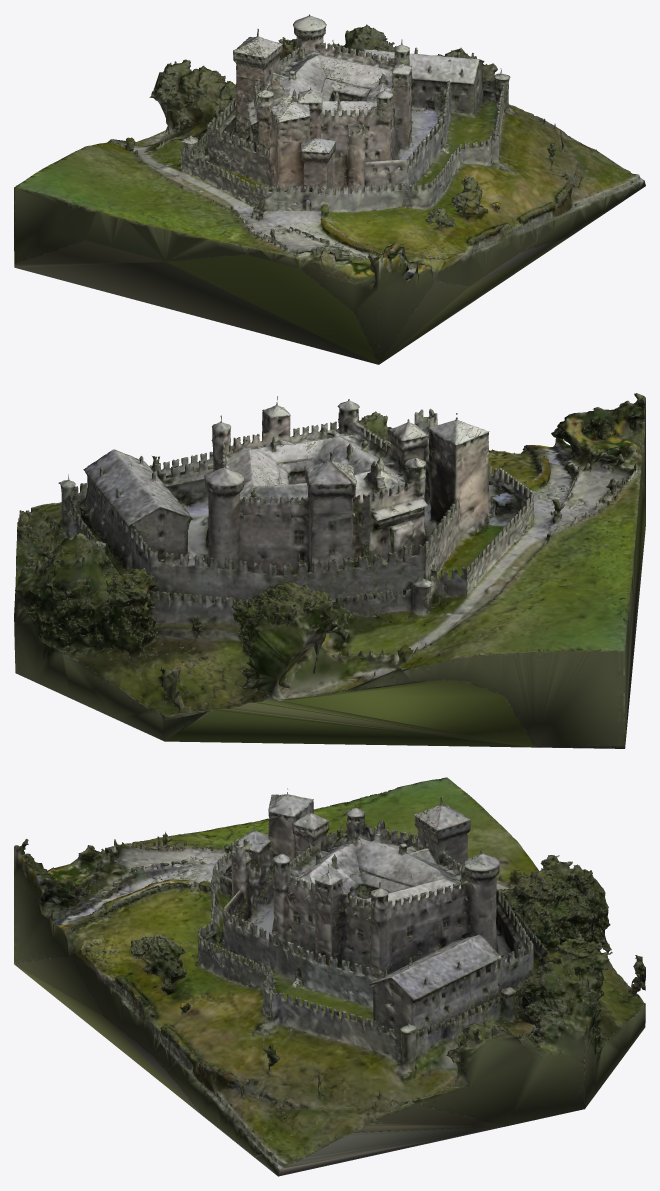
File: castle-rune.glb
3 views of the same model, one above another, from view 1: azimuth 30°, elevation 25°; view 2: azimuth 150°, elevation 25°; view 3: azimuth 270°, elevation 25° (orthographic). The views are drawn at different scales.
Visible parts, largest first — view 1: Object_2; view 2: Object_2; view 3: Object_2.
Part boxes in pixels (<box>): Object_2: <box>14,14,645,364</box>; Object_2: <box>14,393,645,748</box>; Object_2: <box>14,777,645,1176</box>.
Size of the model in its own units: 70.96 by 22.06 by 61.44.
1 material, 1 textured.
